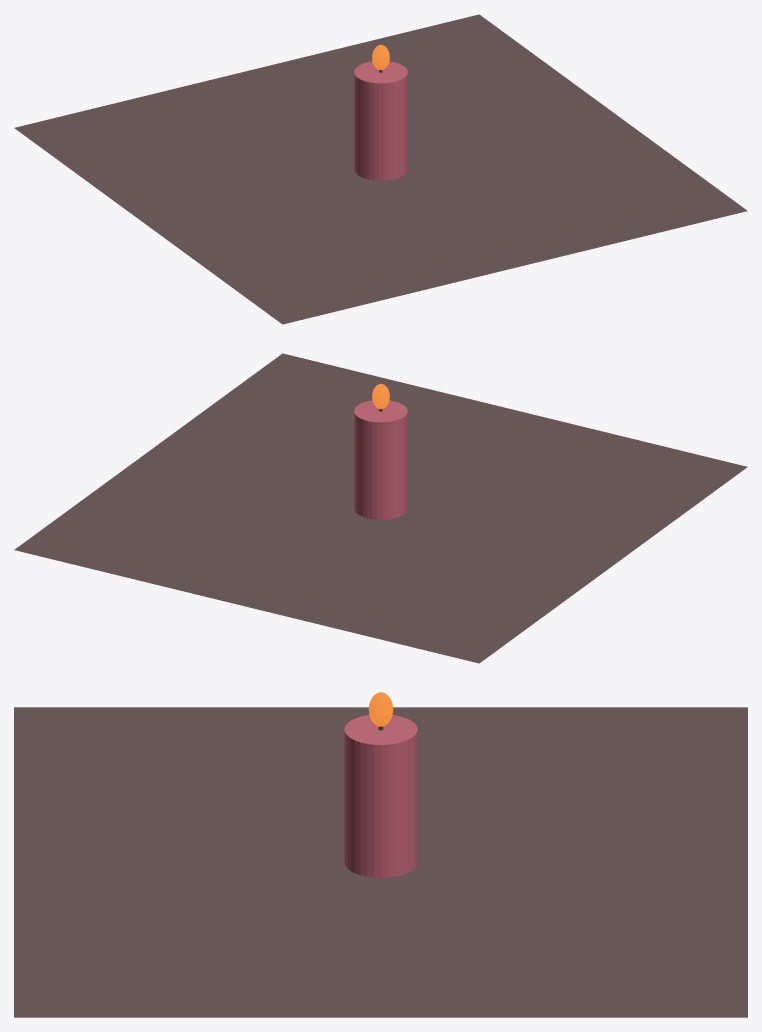
3 views of the same model, one above another, from view 1: azimuth 30°, elevation 25°; view 2: azimuth 150°, elevation 25°; view 3: azimuth 270°, elevation 25° (orthographic). The views are drawn at different scales.
Bounding box in the file's own units: 3 × 0.7651 × 3.
